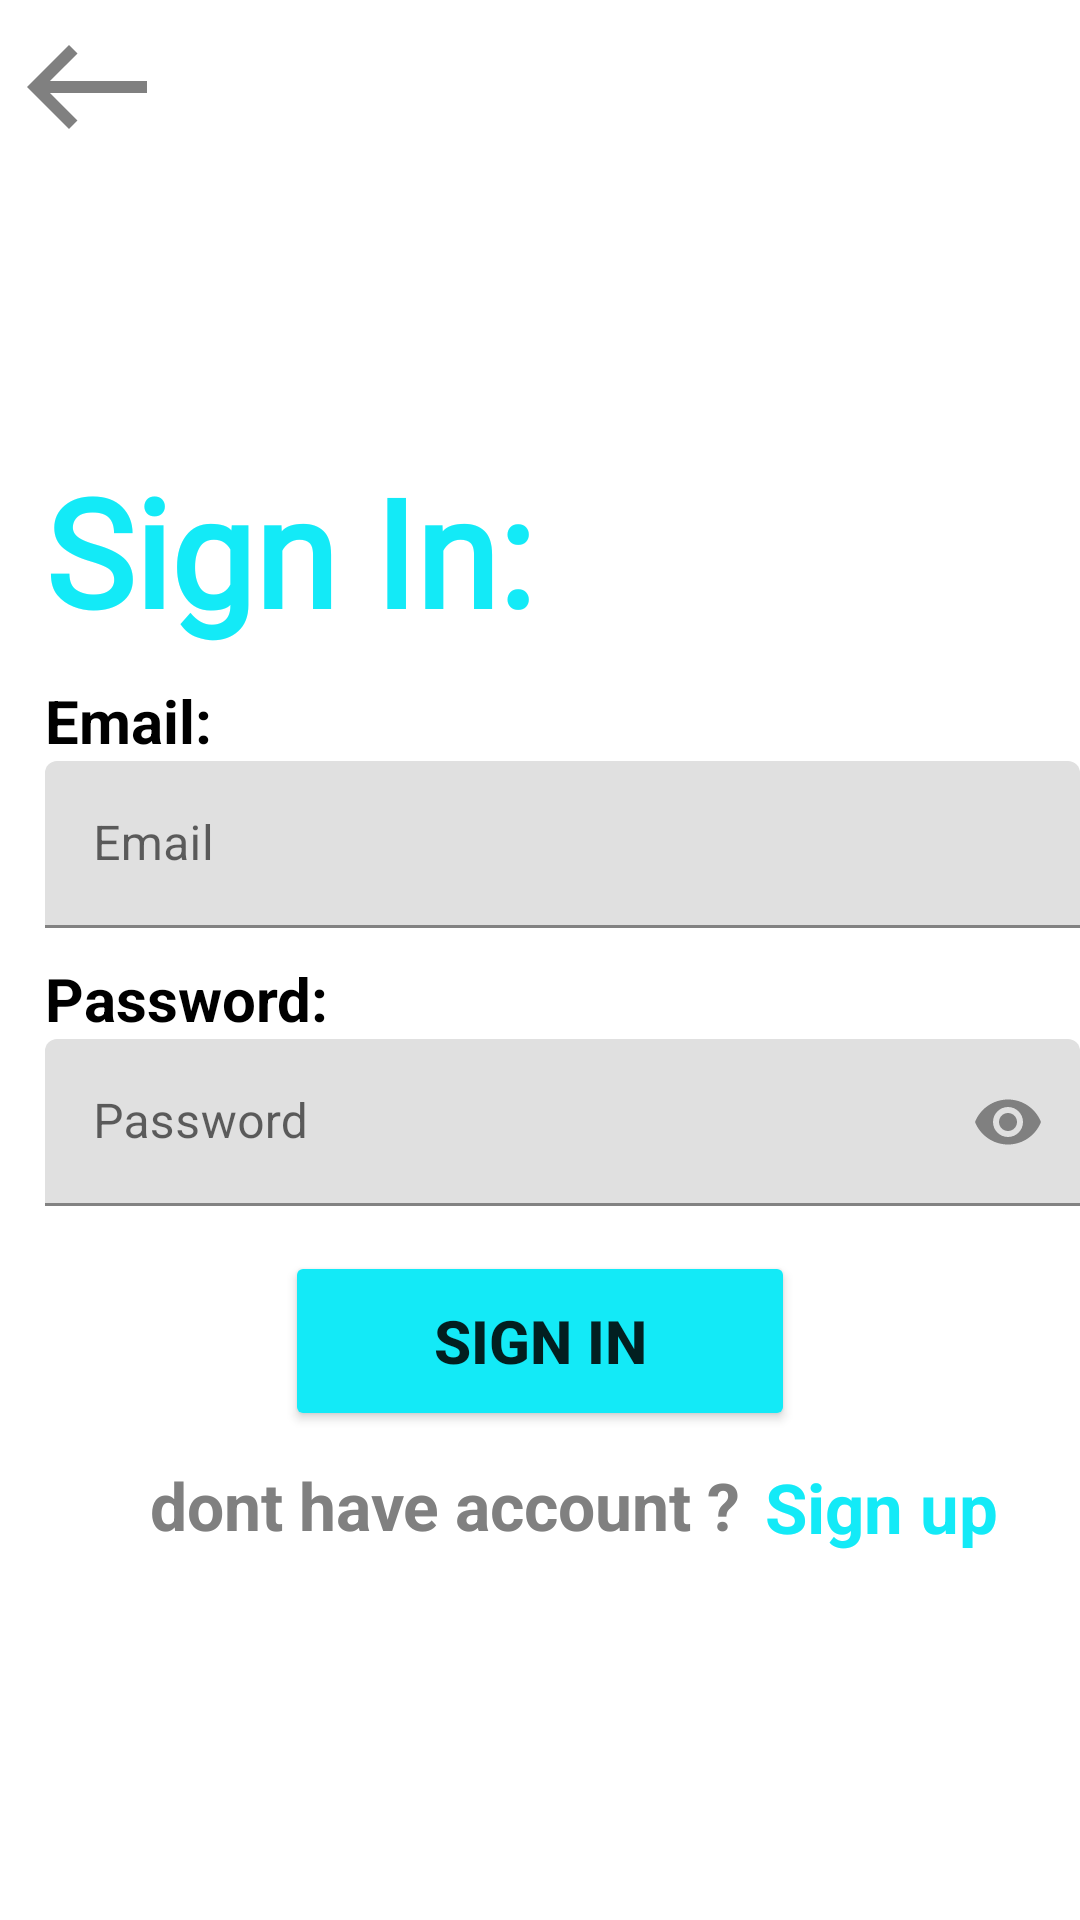

Icon bounding boxes for this 1080 × 1920 phone screenshot, format BBox(x1, y1, x2, y2):
back: BBox(27, 45, 147, 129)
